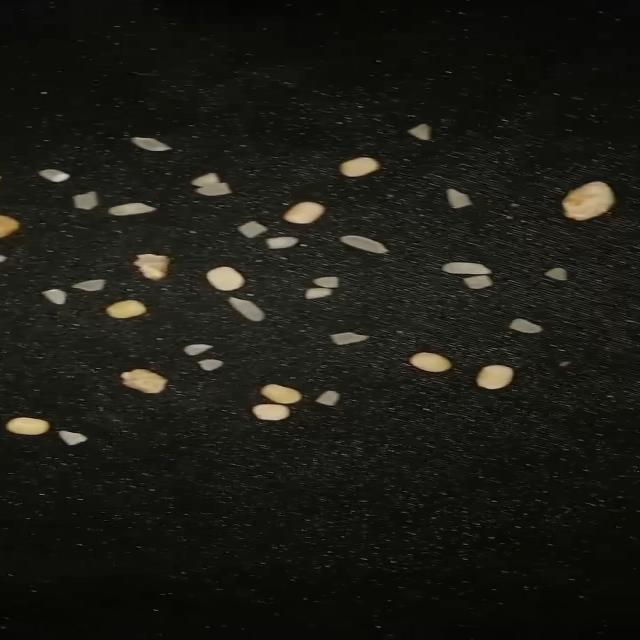Broken: (132, 137, 172, 151), (238, 220, 267, 238), (330, 332, 370, 345), (196, 182, 232, 196), (72, 191, 98, 210), (447, 188, 471, 208), (509, 319, 542, 333), (72, 279, 105, 292), (40, 169, 70, 183), (192, 172, 220, 187), (58, 431, 88, 445), (43, 288, 67, 305), (463, 275, 492, 289), (408, 124, 432, 140), (266, 237, 298, 249), (316, 390, 340, 406), (184, 344, 214, 356), (313, 276, 339, 288), (198, 359, 223, 371), (305, 288, 332, 299), (545, 268, 567, 280)
Full: (228, 297, 265, 321), (340, 236, 388, 253), (109, 202, 156, 216), (442, 262, 492, 274)
